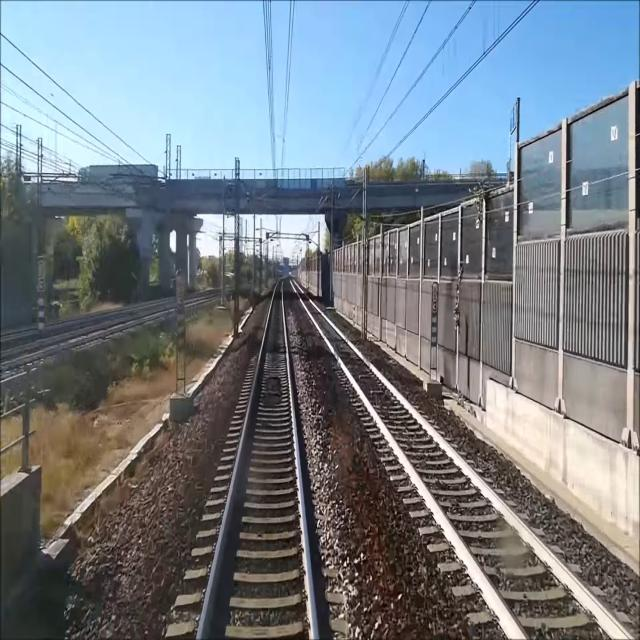rail-track: (292, 279, 627, 639), (200, 279, 314, 639), (0, 313, 158, 371)
